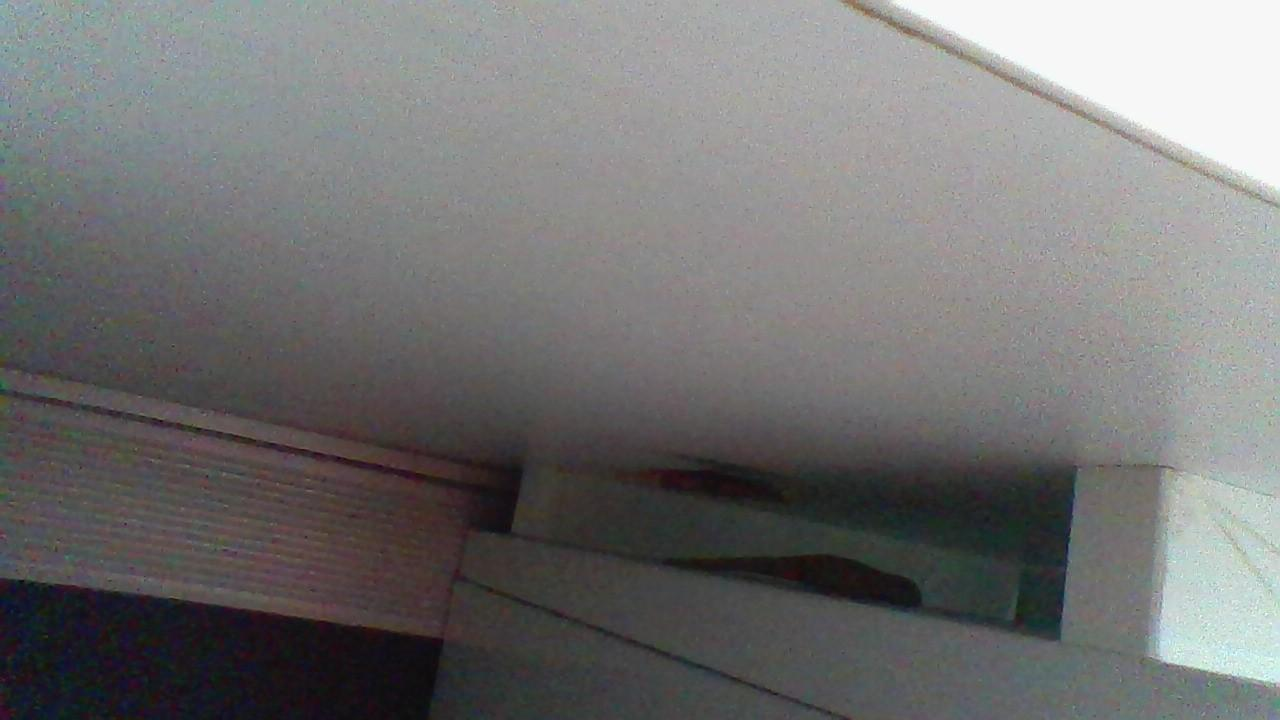cockroach: (579, 453, 802, 503)
lizard: (663, 530, 925, 605)
